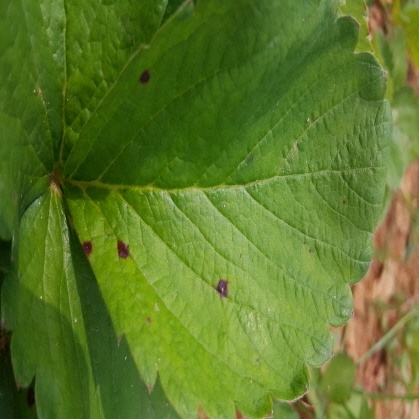Leaf_Spot: (26, 0, 358, 418)
